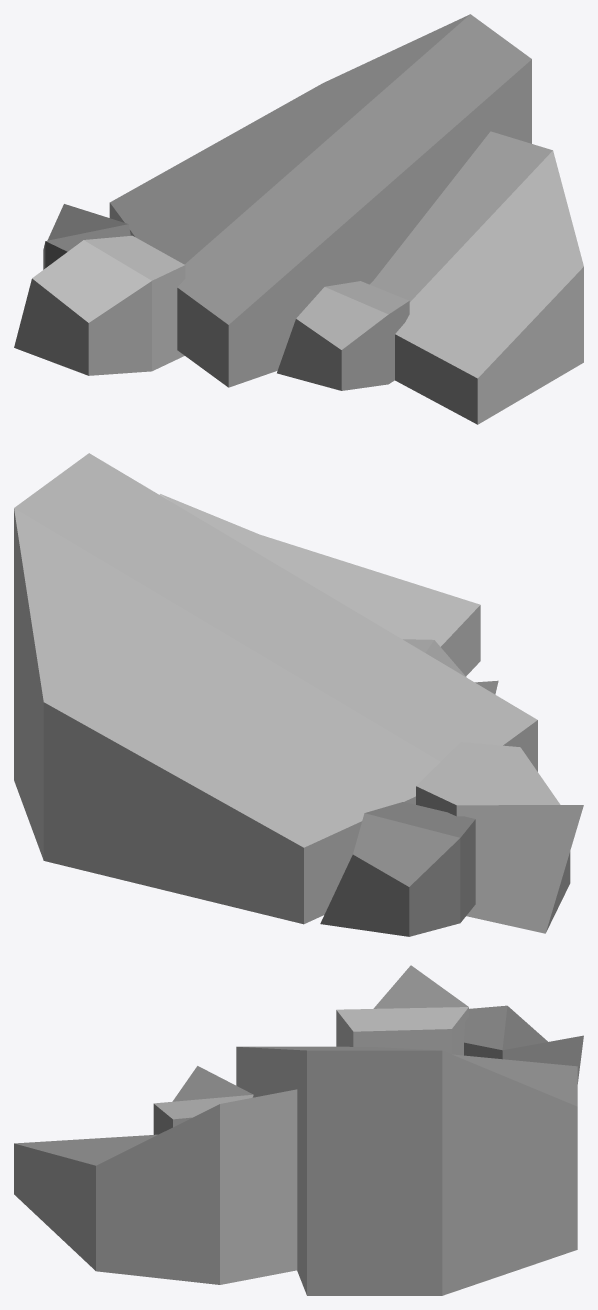
The model's file is rock-type5-01-grey.glb.
3 views of the same model, one above another, from view 1: azimuth 30°, elevation 25°; view 2: azimuth 150°, elevation 25°; view 3: azimuth 270°, elevation 25° (orthographic). The views are drawn at different scales.
Parts seen in each view (by area): view 1: Rock_Type5_01_mesh; view 2: Rock_Type5_01_mesh; view 3: Rock_Type5_01_mesh.
Part boxes in pixels (left/top/right/bottom): Rock_Type5_01_mesh: left=14, top=14, right=583, bottom=424; Rock_Type5_01_mesh: left=14, top=453, right=583, bottom=936; Rock_Type5_01_mesh: left=14, top=965, right=583, bottom=1295.
Bounding box in the file's own units: 1.94 × 0.9523 × 1.92.
1 material, 1 textured.
